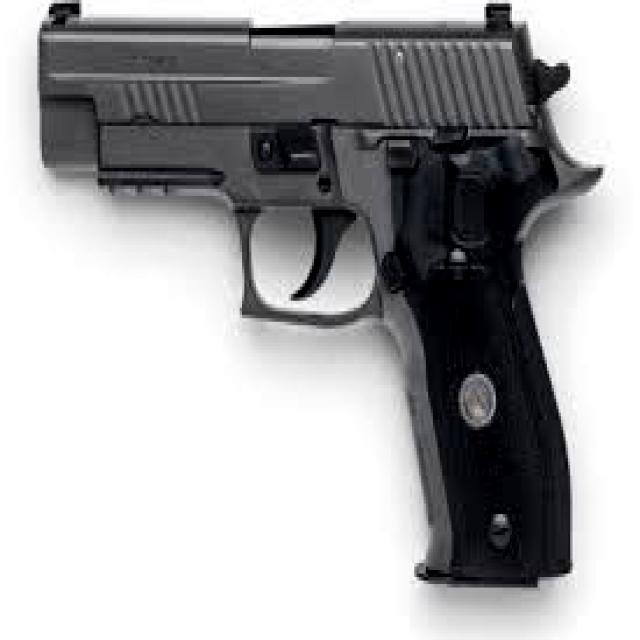semi automatic: (28, 1, 610, 600)
